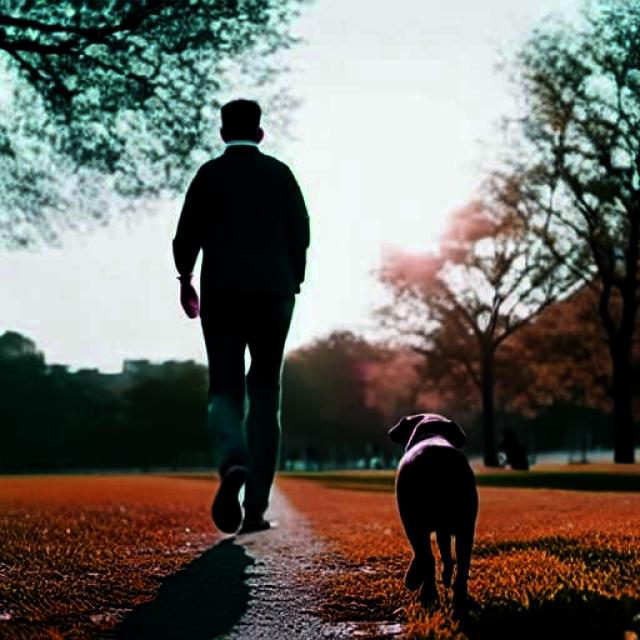Unleashed_Dog: (203, 287, 478, 607)
